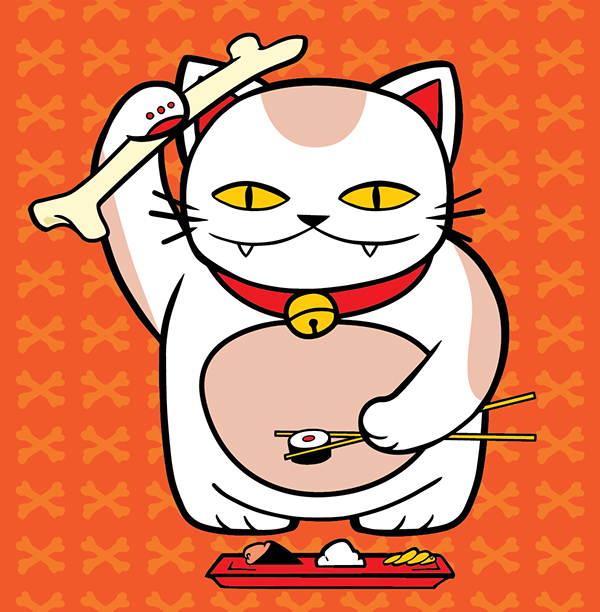cat: (19, 16, 552, 598)
